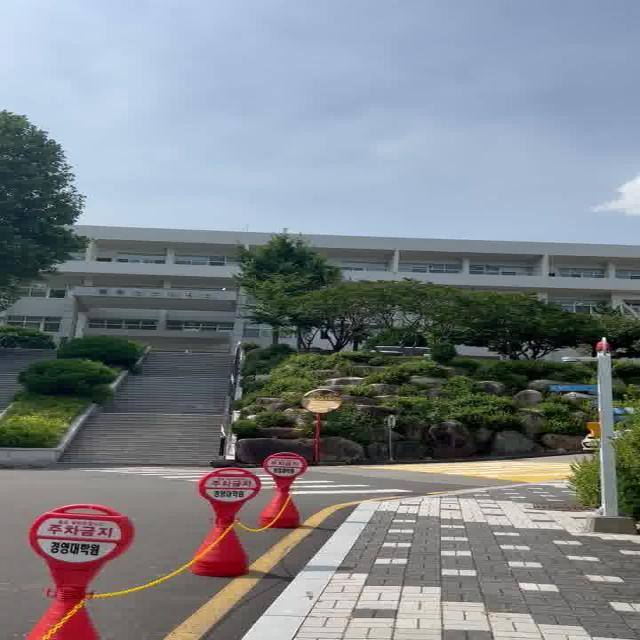building: (60, 216, 236, 336)
